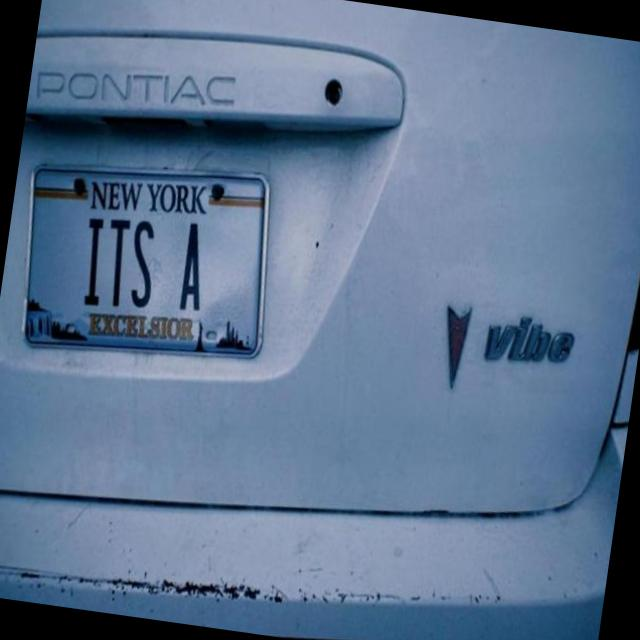LicensePlate: (18, 162, 271, 362)
